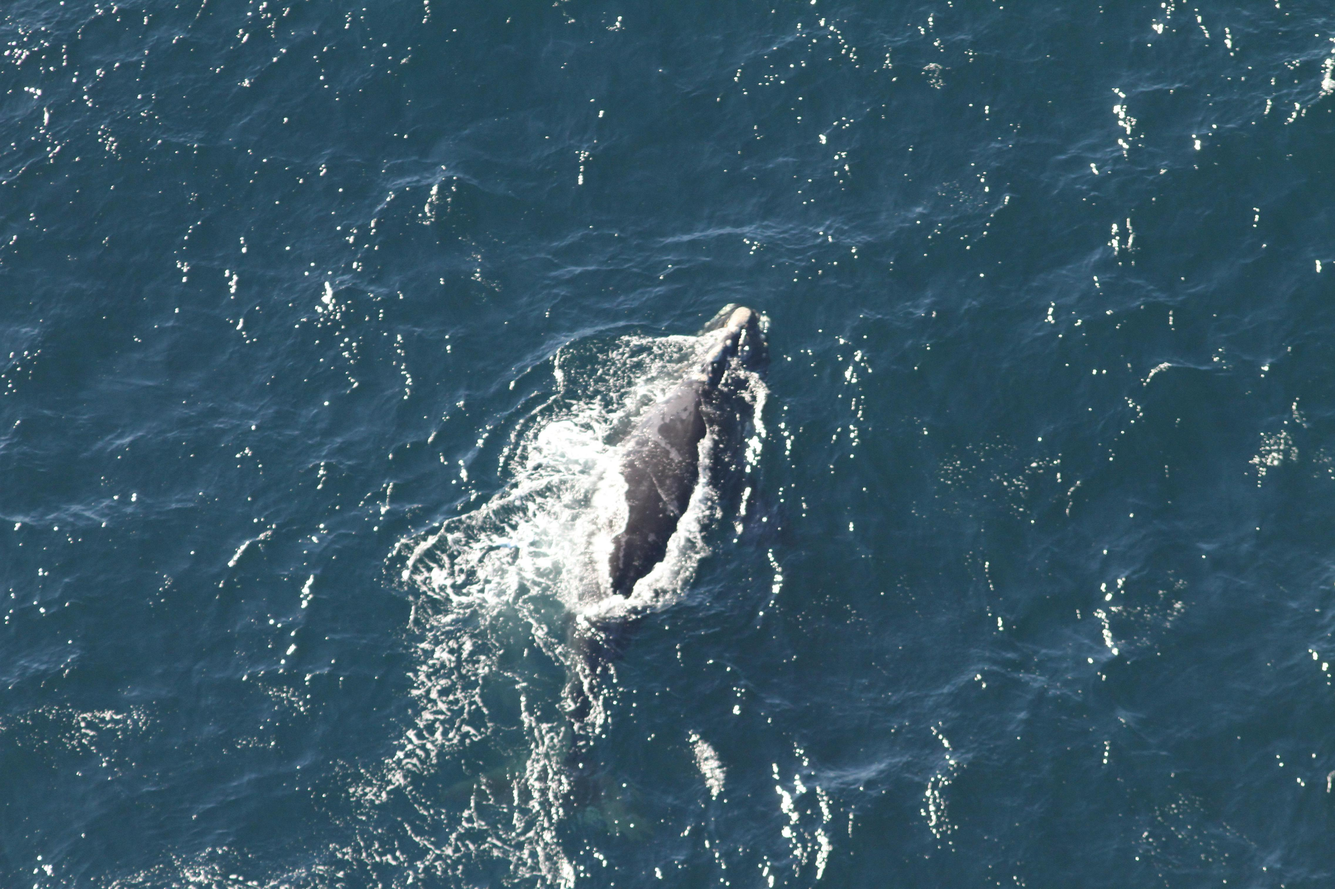whale: (431, 297, 793, 844)
